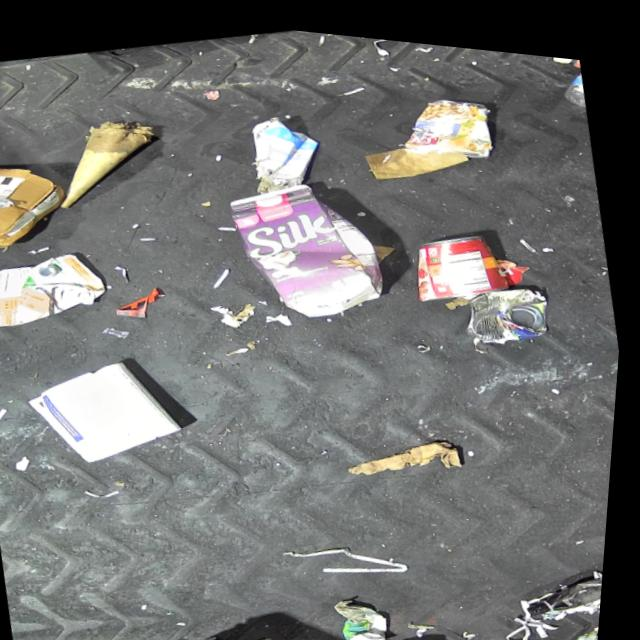can: (408, 211, 516, 300), (395, 75, 501, 164), (459, 264, 560, 343), (359, 624, 451, 640)
non_white_jug: (223, 156, 402, 327), (0, 236, 115, 340)
